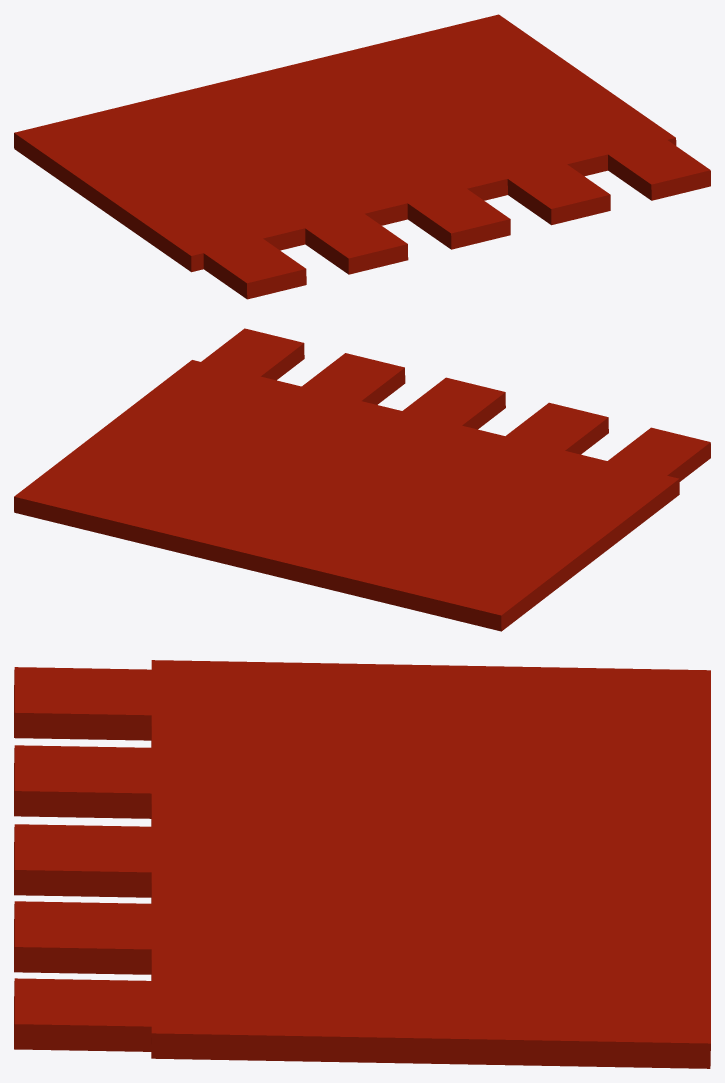
The model's file is wall2d.obj.
3 views of the same model, one above another, from view 1: azimuth 30°, elevation 25°; view 2: azimuth 150°, elevation 25°; view 3: azimuth 270°, elevation 25° (orthographic). The views are drawn at different scales.
Visible parts, largest first — view 1: Cube, Cube.003, Cube.001, Cube.004, Cube.002, Cube.005; view 2: Cube, Cube.001, Cube.005, Cube.004, Cube.002, Cube.003; view 3: Cube, Cube.004, Cube.002, Cube.003, Cube.001, Cube.005.
Part boxes in pixels (x1,y1,x2,y2): Cube: (14,14,676,272); Cube.003: (407,188,510,249); Cube.001: (203,238,306,299); Cube.004: (507,164,610,225); Cube.002: (304,213,408,274); Cube.005: (607,139,710,200); Cube: (14,360,679,631); Cube.001: (607,427,710,481); Cube.005: (200,328,304,380); Cube.004: (301,353,405,404); Cube.002: (505,402,608,454); Cube.003: (402,377,505,429); Cube: (151,660,710,1068); Cube.004: (14,901,154,974); Cube.002: (14,745,154,818); Cube.003: (14,824,154,897); Cube.001: (14,667,154,740); Cube.005: (14,978,154,1051).
Bounding box in the file's own units: 1.22 × 0.058 × 0.9646.
